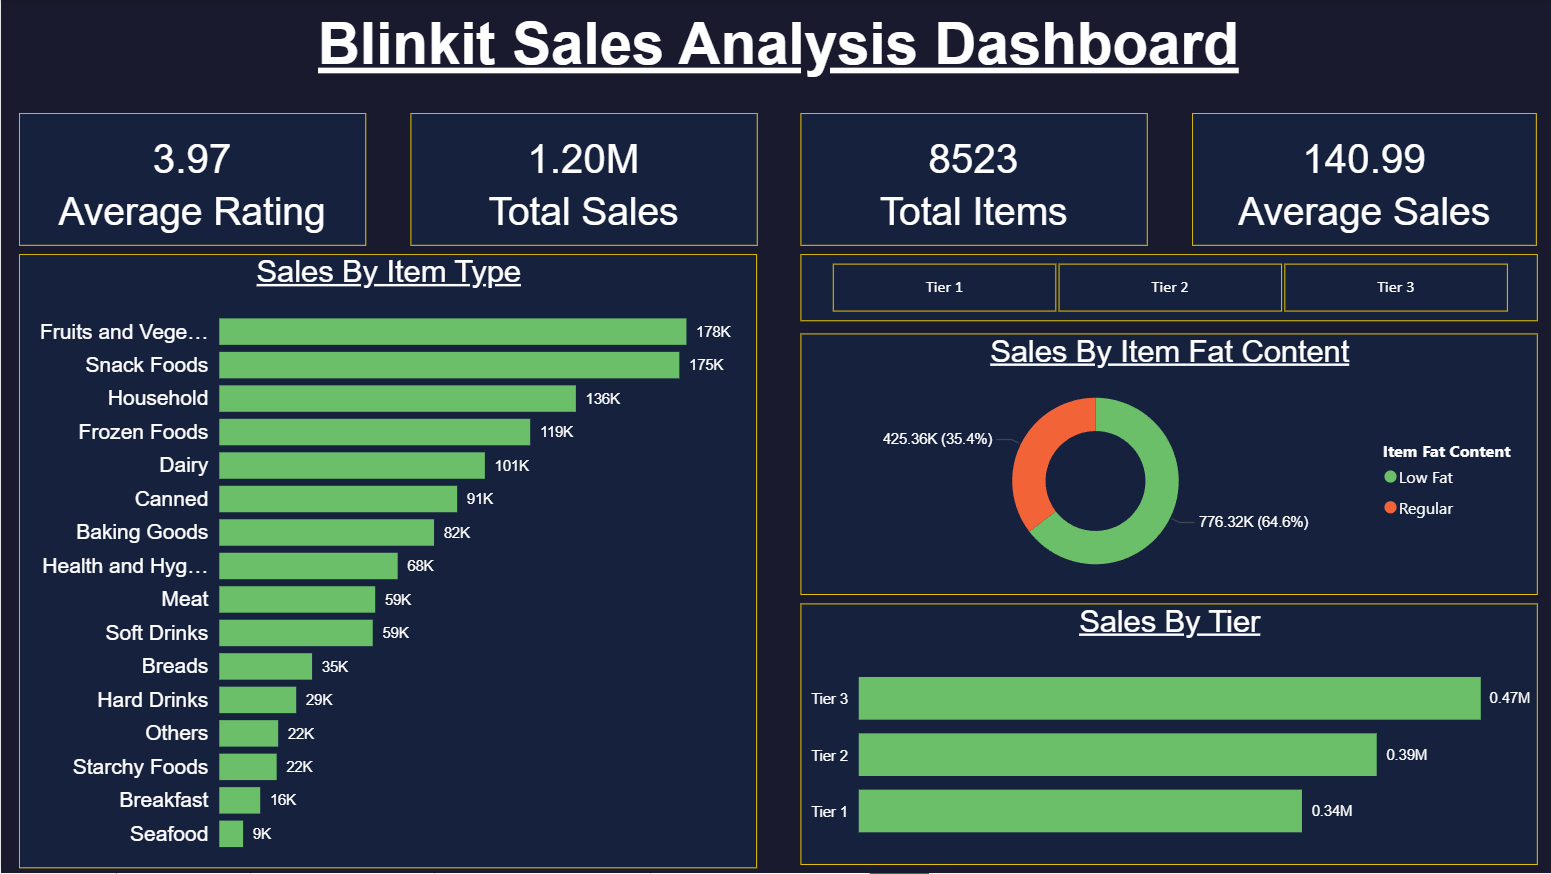

Layout of this report page (visuals, bound fields, positions):
{"tool":"powerbi","page":{"name":"Sales Overview","canvas":[1280,720],"ordinal":1},"visuals":[{"type":"card","fields":{"Values":["Measures Table.Total Sales"]},"box":[336.8,93.3,285.7,109.3],"z":0},{"type":"card","fields":{"Values":["Measures Table.Total Items"]},"box":[659,93.3,285.7,109.3],"z":1000},{"type":"card","fields":{"Values":["Measures Table.Average Sales"]},"box":[981.1,93.3,284.3,109.3],"z":2000},{"type":"card","fields":{"Values":["Measures Table.Average Rating"]},"box":[14.6,93.3,285.7,109.3],"z":3000},{"type":"clusteredBarChart","title":"Sales By Item Type","fields":{"Category":["Blinkit-Grocery-Data(Processed).item_type"],"Y":["Measures Table.Total Sales"]},"box":[14.6,209.9,607.9,505.9],"z":4000},{"type":"donutChart","title":"Sales By Item Fat Content","fields":{"Y":["Measures Table.Total Sales"],"Category":["Blinkit-Grocery-Data(Processed).item_fat_content"]},"box":[658.7,275.6,607,215],"z":5000},{"type":"clusteredBarChart","title":"Sales By Tier","fields":{"Category":["Blinkit-Grocery-Data(Processed).outlet_location_type"],"Y":["Measures Table.Total Sales"]},"box":[658.7,498.2,607,215],"z":6000},{"type":"slicer","fields":{"Values":["Blinkit-Grocery-Data(Processed).outlet_location_type"]},"box":[659,209.9,607,55.4],"z":7000},{"type":"textbox","box":[240.5,10.2,798.9,68.5],"z":8000}]}

Visuals, with their boxes in screenshot pixels (x1, y1, x2, y2), scaled from the page's 1280x720 canvas onto the 1551x874 screenshot:
card - Measures Table.Total Sales: bbox=(408, 113, 754, 246)
card - Measures Table.Total Items: bbox=(799, 113, 1145, 246)
card - Measures Table.Average Sales: bbox=(1189, 113, 1533, 246)
card - Measures Table.Average Rating: bbox=(18, 113, 364, 246)
"Sales By Item Type" clusteredBarChart: bbox=(18, 255, 754, 869)
"Sales By Item Fat Content" donutChart: bbox=(798, 335, 1534, 596)
"Sales By Tier" clusteredBarChart: bbox=(798, 605, 1534, 866)
slicer - Blinkit-Grocery-Data(Processed).outlet_location_type: bbox=(799, 255, 1534, 322)
textbox: bbox=(291, 12, 1259, 96)
